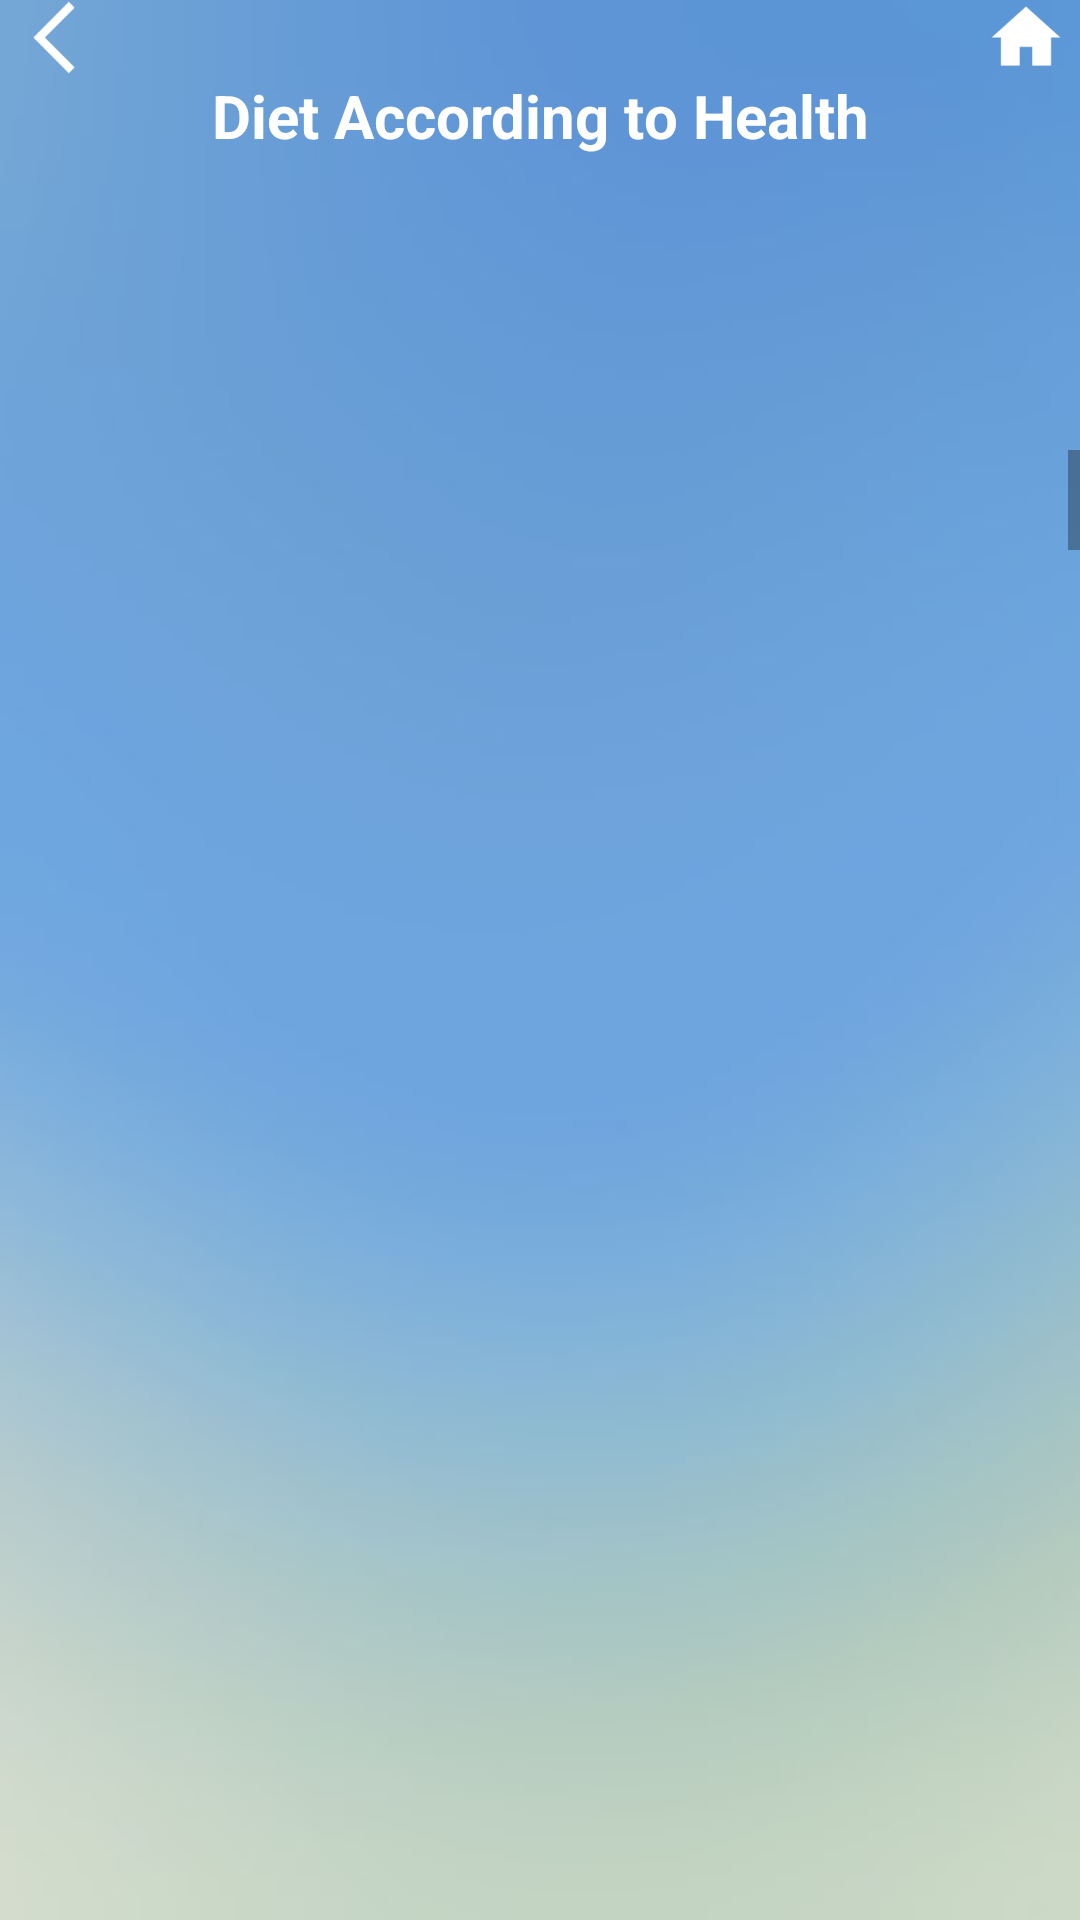

Where to tap for icons on this 1080px x 1920px app screen, as [x,y]:
back: [54,37]
home: [1026,36]
